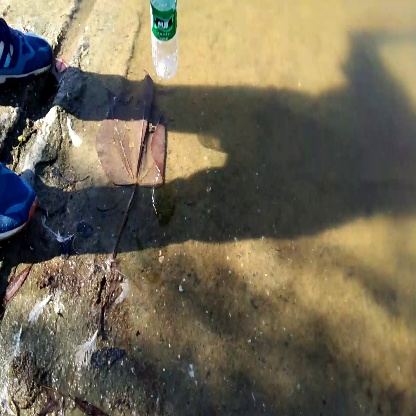bottle: (143, 2, 187, 82)
leaf: (96, 83, 171, 267)
